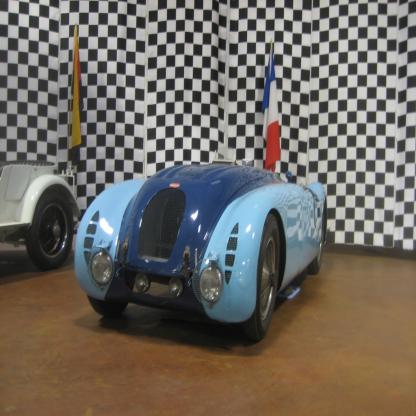Car: (74, 163, 328, 341), (0, 160, 80, 270)
